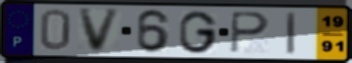0: (38, 8, 72, 53)
6: (134, 8, 172, 55)
G: (177, 9, 219, 55)
I: (285, 11, 298, 57)
P: (229, 10, 272, 55)
V: (76, 7, 123, 54)
